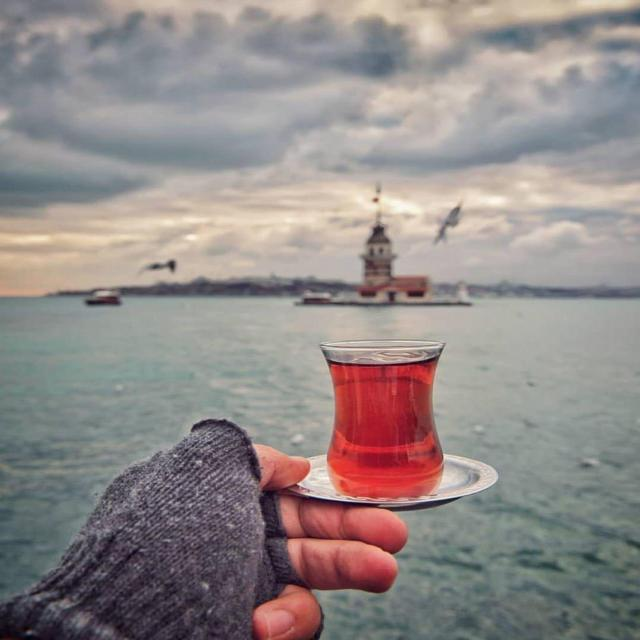glass-normal: (318, 336, 449, 499)
